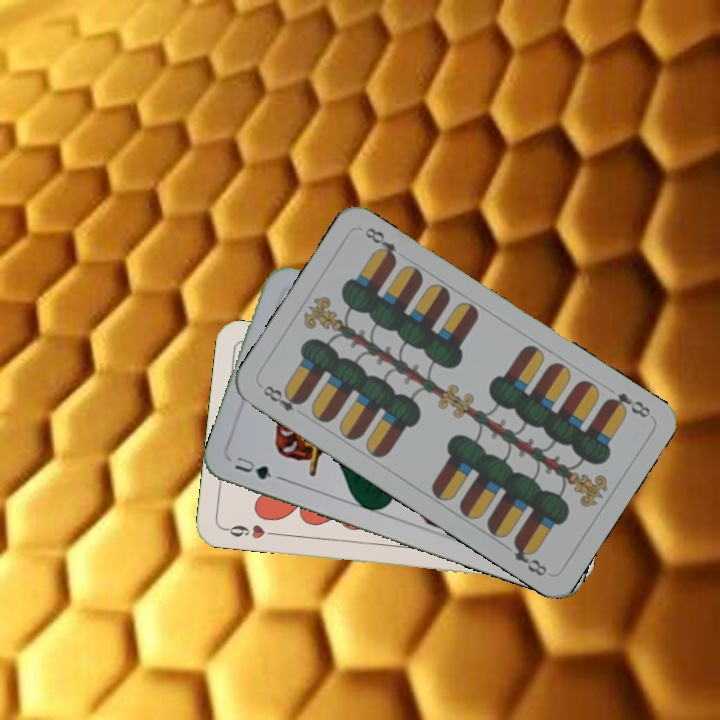E8: (601, 388, 654, 421), (259, 381, 307, 415)
GU: (230, 453, 276, 482)
H9: (220, 521, 279, 541)
